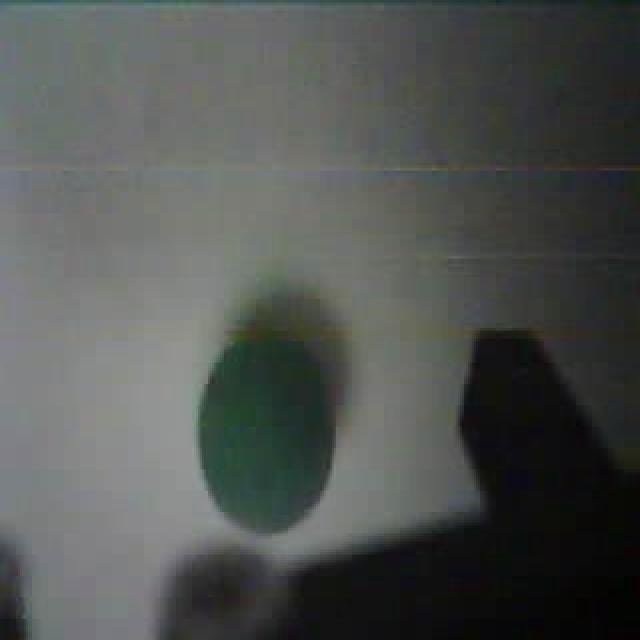green_ball: (191, 324, 342, 543)
